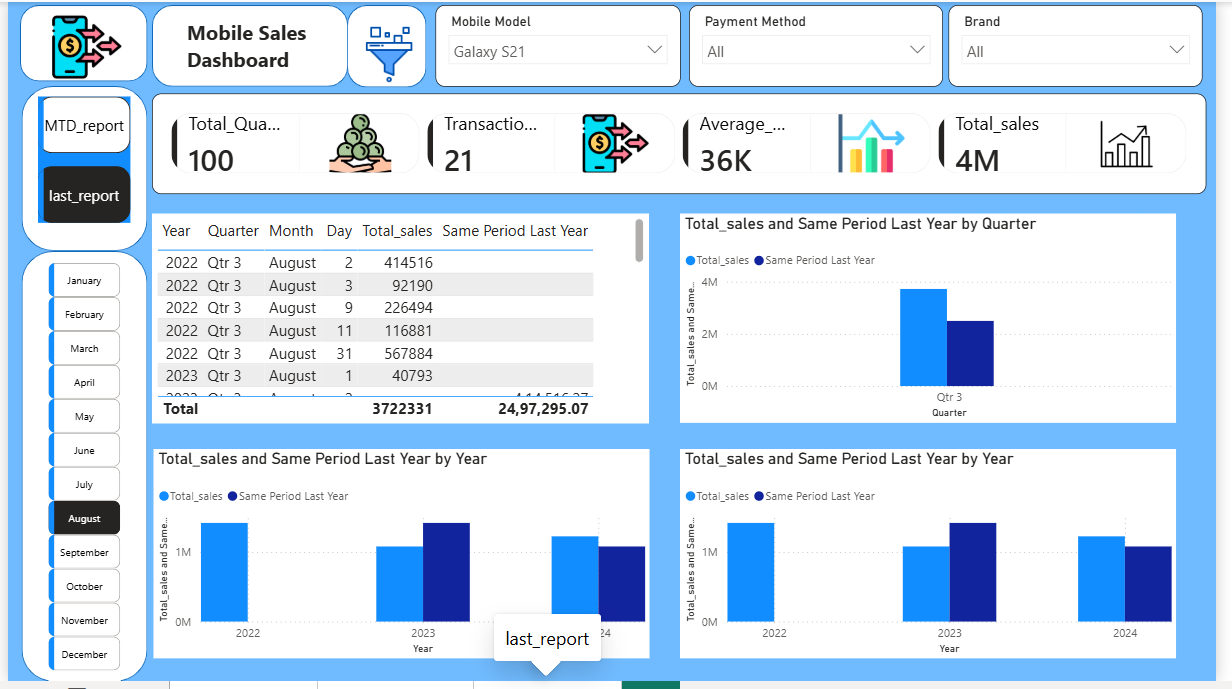

What the dashboard file says about the page in this screenshot:
{"tool":"powerbi","page":{"name":"last_report","canvas":[1280,720],"ordinal":2},"visuals":[{"type":"shape","box":[12.7,3.2,135.2,81.1],"z":0},{"type":"image","box":[38.5,11.6,90.7,73.2],"z":1000},{"type":"cardVisual","fields":{"Data":["sales_data.Total_Quantity","sales_data.Transactions","sales_data.Average_price","sales_data.Total_sales"]},"box":[152.7,97,1118.2,106.6],"z":2000},{"type":"slicer","fields":{"Values":["sales_data.Mobile Model"]},"box":[452.6,3.9,260,86.7],"z":3000},{"type":"slicer","fields":{"Values":["sales_data.Payment Method"]},"box":[722.2,3.9,269.6,86.7],"z":4000},{"type":"slicer","fields":{"Values":["sales_data.Brand"]},"box":[997.6,3.9,269.6,86.7],"z":5000},{"type":"shape","box":[360.1,3.9,84.3,87.5],"z":6000},{"type":"image","box":[373.6,0,60.4,111.3],"z":7000},{"type":"shape","box":[152.7,3.2,208,86.7],"z":8000},{"type":"textbox","box":[184.9,11.6,142.5,73.2],"z":9000},{"type":"shape","box":[14.3,89.1,133.6,175],"z":10000},{"type":"shape","box":[14.3,263.5,133.6,456.5],"z":11000},{"type":"advancedSlicerVisual","fields":{"Values":["custom_calendor.Date.Variation.Date Hierarchy.Month"]},"box":[42.9,276.2,76.3,443.8],"z":12000},{"type":"tableEx","fields":{"Values":["custom_calendor.Date.Variation.Date Hierarchy.Year","custom_calendor.Date.Variation.Date Hierarchy.Quarter","custom_calendor.Date.Variation.Date Hierarchy.Month","custom_calendor.Date.Variation.Date Hierarchy.Day","sales_data.Total_sales","sales_data.Same Period Last Year"]},"box":[152,224,526,222],"z":13000},{"type":"clusteredColumnChart","fields":{"Category":["custom_calendor.Date.Variation.Date Hierarchy.Year","custom_calendor.Date.Variation.Date Hierarchy.Quarter","custom_calendor.Date.Variation.Date Hierarchy.Month","custom_calendor.Date.Variation.Date Hierarchy.Day"],"Y":["sales_data.Total_sales","sales_data.Same Period Last Year"]},"box":[712,224,526,222],"z":14000},{"type":"clusteredColumnChart","fields":{"Category":["custom_calendor.Date.Variation.Date Hierarchy.Year","custom_calendor.Date.Variation.Date Hierarchy.Quarter","custom_calendor.Date.Variation.Date Hierarchy.Month","custom_calendor.Date.Variation.Date Hierarchy.Day"],"Y":["sales_data.Total_sales","sales_data.Same Period Last Year"]},"box":[154,474,526,222],"z":15000},{"type":"clusteredColumnChart","fields":{"Category":["custom_calendor.Date.Variation.Date Hierarchy.Year","custom_calendor.Date.Variation.Date Hierarchy.Quarter","custom_calendor.Date.Variation.Date Hierarchy.Month","custom_calendor.Date.Variation.Date Hierarchy.Day"],"Y":["sales_data.Total_sales","sales_data.Same Period Last Year"]},"box":[712,474,526,222],"z":16000},{"type":"pageNavigator","box":[32,100,98,134],"z":17000}]}

Visuals, with their boxes in screenshot pixels (x1, y1, x2, y2), scaled from the page's 1280x720 canvas onto the 1232x689 screenshot:
shape: 12/3/142/81
image: 37/11/124/81
cardVisual - sales_data.Total_Quantity x sales_data.Transactions: 147/93/1223/195
slicer - sales_data.Mobile Model: 436/4/686/87
slicer - sales_data.Payment Method: 695/4/955/87
slicer - sales_data.Brand: 960/4/1220/87
shape: 347/4/428/87
image: 360/0/418/107
shape: 147/3/347/86
textbox: 178/11/315/81
shape: 14/85/142/253
shape: 14/252/142/688
advancedSlicerVisual - custom_calendor.Date.Variation.Date Hierarchy.Month: 41/264/115/688
tableEx - custom_calendor.Date.Variation.Date Hierarchy.Year x custom_calendor.Date.Variation.Date Hierarchy.Quarter: 146/214/653/427
clusteredColumnChart - custom_calendor.Date.Variation.Date Hierarchy.Year x custom_calendor.Date.Variation.Date Hierarchy.Quarter: 685/214/1192/427
clusteredColumnChart - custom_calendor.Date.Variation.Date Hierarchy.Year x custom_calendor.Date.Variation.Date Hierarchy.Quarter: 148/454/654/666
clusteredColumnChart - custom_calendor.Date.Variation.Date Hierarchy.Year x custom_calendor.Date.Variation.Date Hierarchy.Quarter: 685/454/1192/666
pageNavigator: 31/96/125/224
